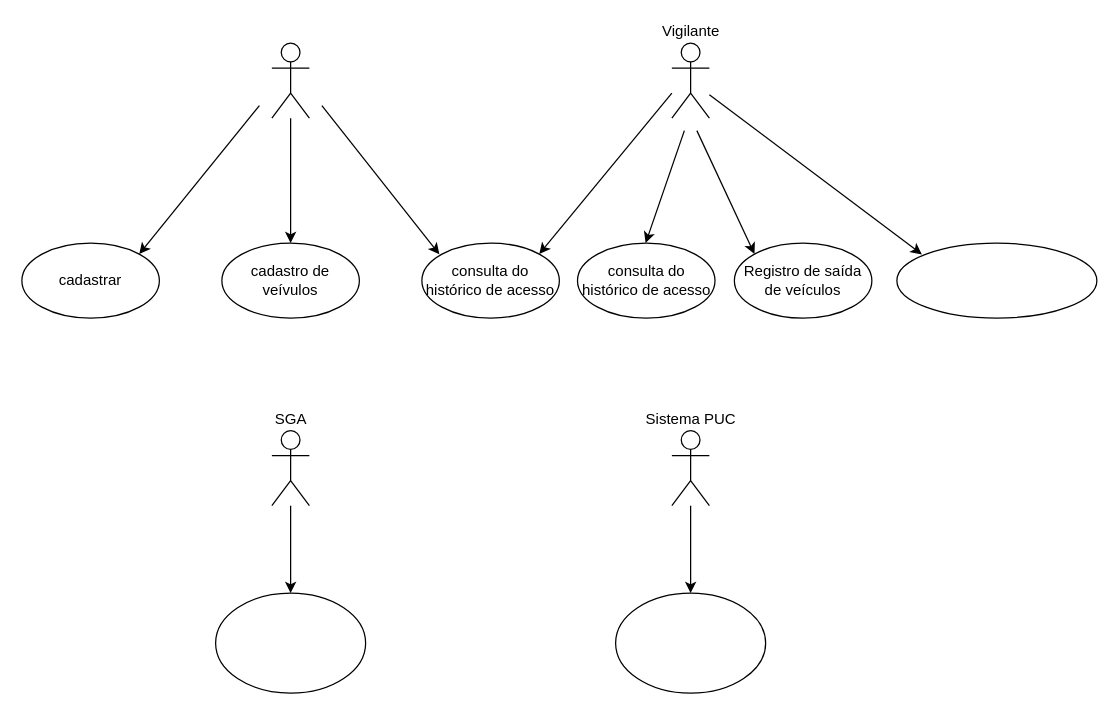
Some shapes in this 1119 by 715 pixel diagram are drawn without their labels. The shapes that lost their labels are listed below. From the top down, each one's centre as x and y in pixels, then its label:
At point 290,80: "Usuário".
At point 996,280: "Cadastro de visitante no momento da entrada".
At point 290,642: "Integração com o SGA".
At point 690,642: "Atualização das vagas disponíveis".
